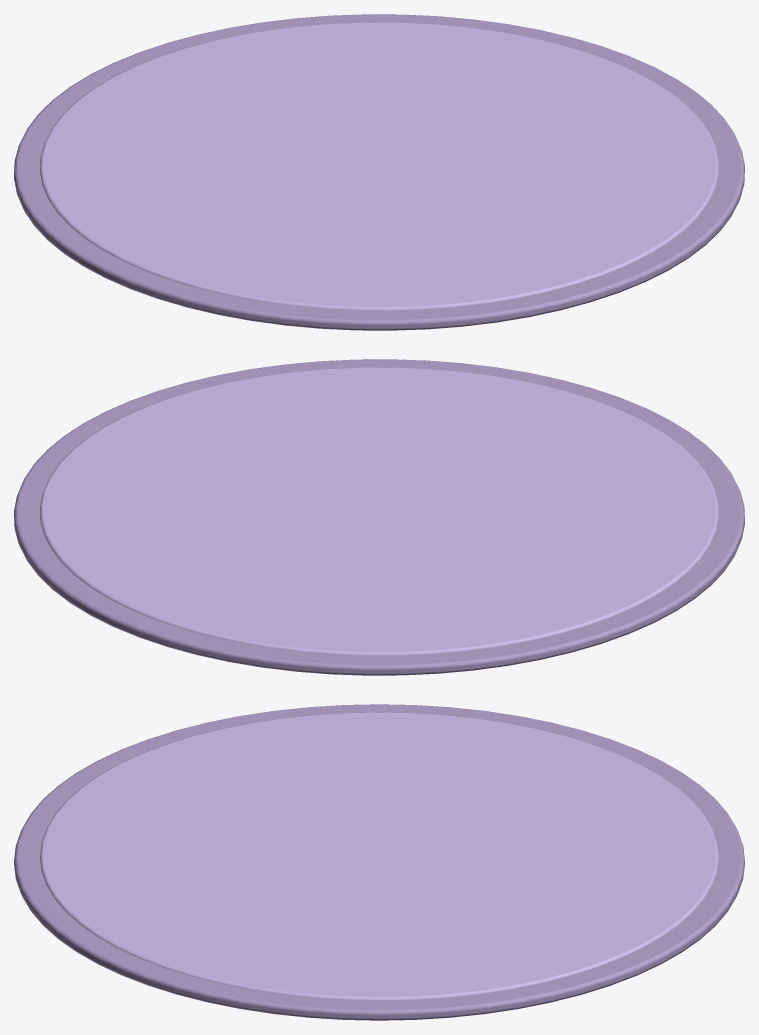
File: rug_round__111.glb
3 views of the same model, one above another, from view 1: azimuth 30°, elevation 25°; view 2: azimuth 150°, elevation 25°; view 3: azimuth 270°, elevation 25° (orthographic).
Parts seen in each view (by area): view 1: rug_round__111; view 2: rug_round__111; view 3: rug_round__111.
Boxes of the visible parts, x1,y1,x2,y2 form: rug_round__111: (14, 14, 744, 330); rug_round__111: (14, 359, 744, 675); rug_round__111: (14, 704, 744, 1020).
Size of the model in its own units: 1 by 0.02 by 1.
